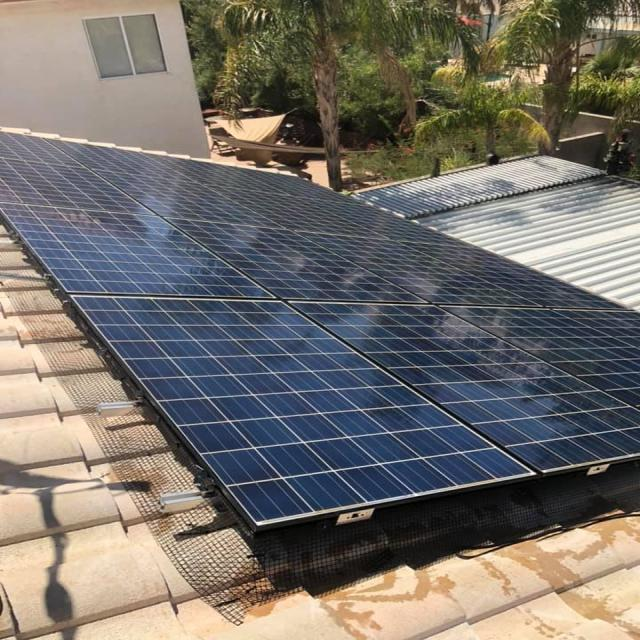clean-solar-panel: (2, 134, 638, 529)
